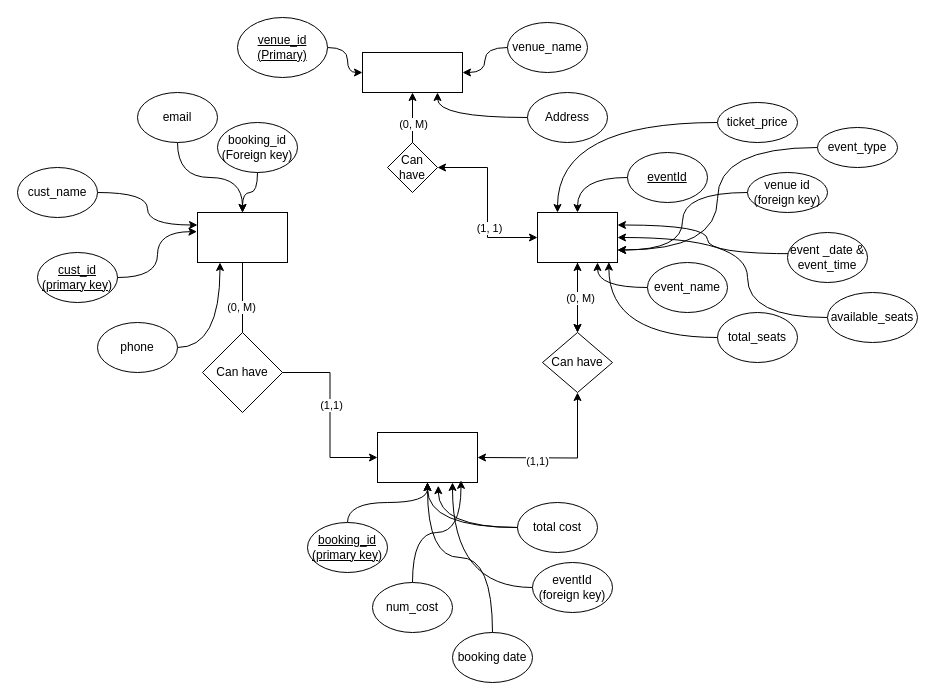
The diagram is 935 pixels wide and 700 high, and some of its shapes have lost their labels. The centre of each missing label's shape, as x and y in pixels:
"Bookings" goes at [427,457].
"Customers" goes at [242,237].
"Event" goes at [577,237].
"Venue" goes at [412,72].
